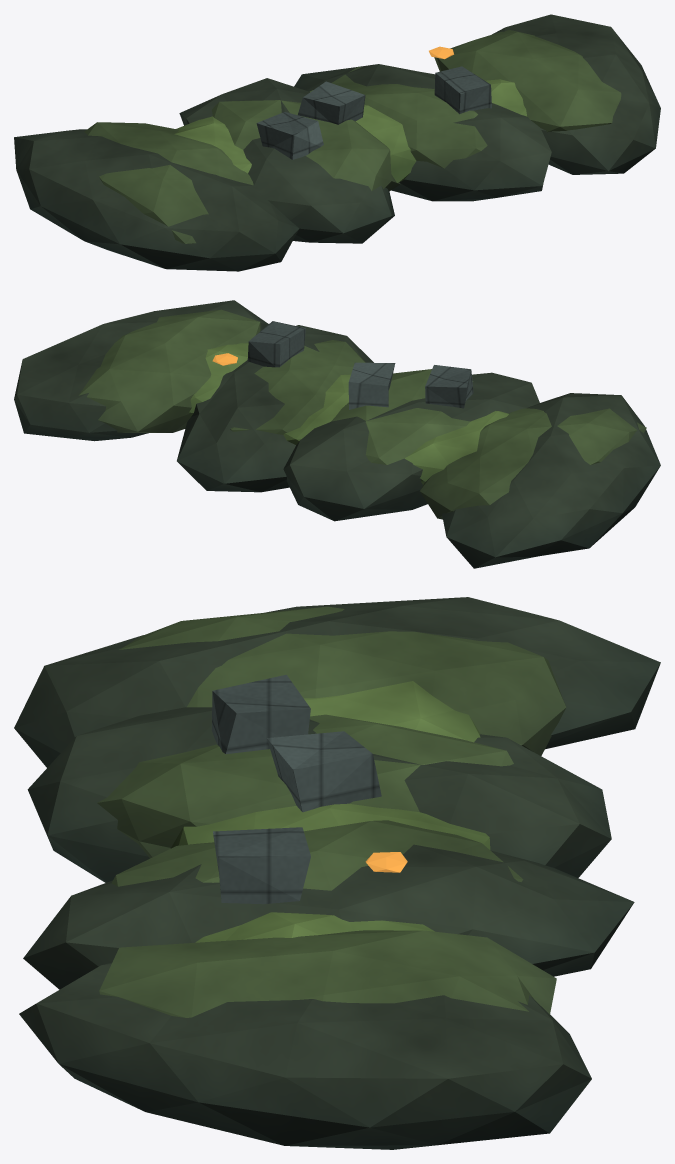
The model's file is mud_bank_a.glb.
3 views of the same model, one above another, from view 1: azimuth 30°, elevation 25°; view 2: azimuth 150°, elevation 25°; view 3: azimuth 270°, elevation 25° (orthographic). The views are drawn at different scales.
Visible parts, largest first — view 1: mud_bank_a; view 2: mud_bank_a; view 3: mud_bank_a.
Boxes of the visible parts, x1,y1,x2,y2 form: mud_bank_a: [14, 14, 660, 271]; mud_bank_a: [14, 300, 660, 568]; mud_bank_a: [14, 597, 660, 1149].
Size of the model in its own units: 7.2 by 1.22 by 3.87.
3 materials, 3 textured.
